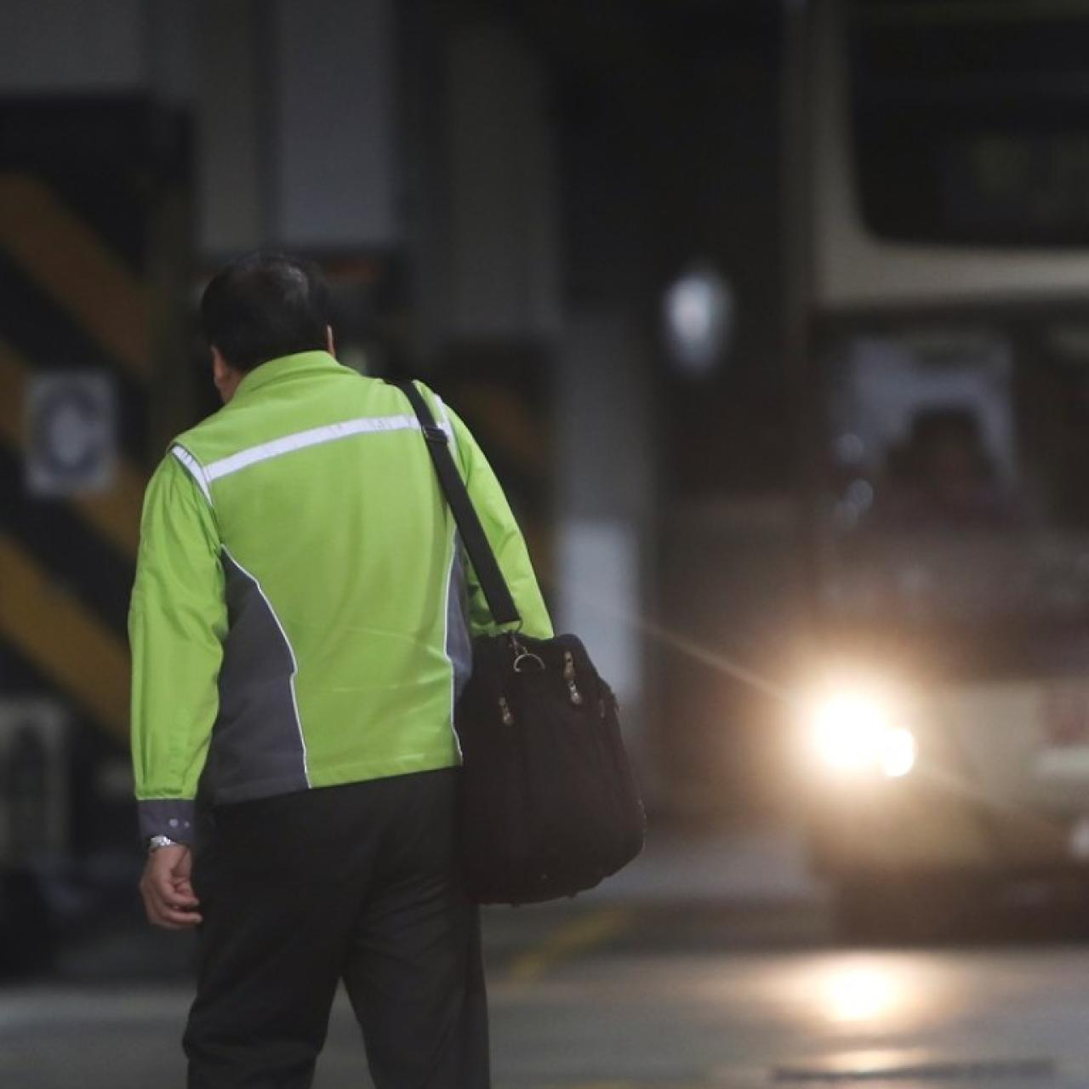NO_Safety_Vest: (160, 371, 515, 812)
Person: (109, 231, 581, 1089)
